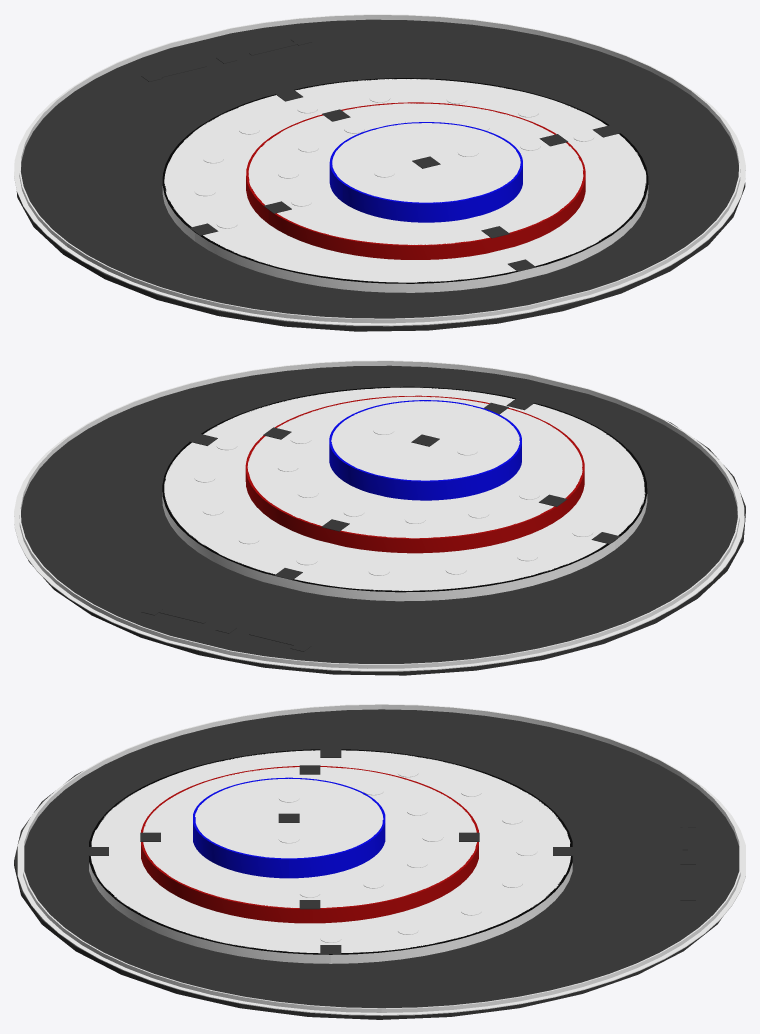
File: XROBOCON_ver1.obj
3 views of the same model, one above another, from view 1: azimuth 30°, elevation 25°; view 2: azimuth 150°, elevation 25°; view 3: azimuth 270°, elevation 25° (orthographic).
Visible parts, largest first — view 1: 円柱, 押し出し_7, 押し出し_5, 押し出し_2, ポリゴン_8, ポリゴン_15, ポリゴン_28, ポリゴン_32, ポリゴン, ポリゴン_29, ポリゴン_35, ポリゴン_42 (+4 smaller); view 2: 円柱, 押し出し_7, 押し出し_5, 押し出し_2, ポリゴン_9, ポリゴン_16, ポリゴン_28, ポリゴン_33, ポリゴン_2, ポリゴン_30, ポリゴン_35, ポリゴン_42 (+4 smaller); view 3: 円柱, 押し出し_7, 押し出し_5, 押し出し_2, ポリゴン_28, ポリゴン_35, ポリゴン_8, ポリゴン_9, ポリゴン_15, ポリゴン_16, ポリゴン_42, ポリゴン_32 (+8 smaller).
Part boxes in pixels (<box>): 円柱: <box>16,19,745,331</box>; 押し出し_7: <box>164,79,646,282</box>; 押し出し_5: <box>248,103,583,244</box>; 押し出し_2: <box>332,123,520,202</box>; ポリゴン_8: <box>268,178,585,259</box>; ポリゴン_15: <box>195,185,648,292</box>; ポリゴン_28: <box>14,88,745,325</box>; ポリゴン_32: <box>20,15,691,171</box>; ポリゴン: <box>342,166,522,222</box>; ポリゴン_29: <box>67,169,740,323</box>; ポリゴン_35: <box>19,14,740,319</box>; ポリゴン_42: <box>162,78,648,283</box>; 円柱: <box>21,365,745,675</box>; 押し出し_7: <box>164,387,645,590</box>; 押し出し_5: <box>247,396,582,538</box>; 押し出し_2: <box>331,401,519,480</box>; ポリゴン_9: <box>245,468,561,553</box>; ポリゴン_16: <box>162,492,614,601</box>; ポリゴン_28: <box>14,434,744,670</box>; ポリゴン_33: <box>68,361,737,517</box>; ポリゴン_2: <box>329,444,509,500</box>; ポリゴン_30: <box>19,515,691,668</box>; ポリゴン_35: <box>19,360,739,664</box>; ポリゴン_42: <box>162,386,647,591</box>; 円柱: <box>14,709,739,1019</box>; 押し出し_7: <box>91,750,570,953</box>; 押し出し_5: <box>143,767,476,907</box>; 押し出し_2: <box>195,778,383,858</box>; ポリゴン_28: <box>17,774,745,1014</box>; ポリゴン_35: <box>23,704,740,1008</box>; ポリゴン_8: <box>141,845,309,923</box>; ポリゴン_9: <box>310,845,478,923</box>; ポリゴン_15: <box>89,862,330,963</box>; ポリゴン_16: <box>331,863,572,963</box>; ポリゴン_42: <box>89,749,572,954</box>; ポリゴン_32: <box>381,704,739,845</box>.
Size of what is drawn, in the model's own units: 14.03 by 1.01 by 14.01.
